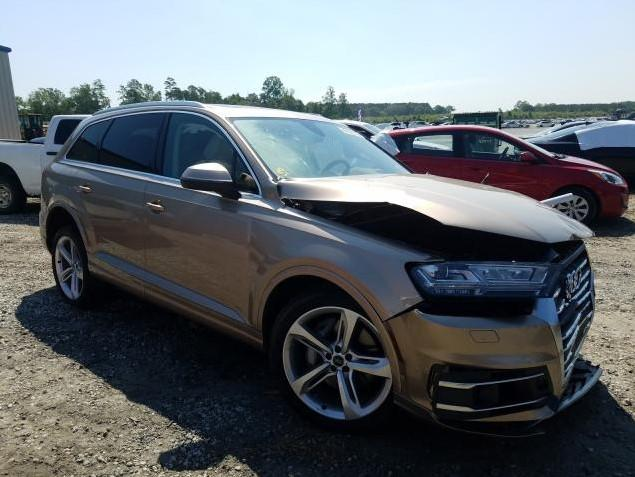Back-door: (69, 111, 166, 281), (95, 110, 168, 122)
Back-wheel: (51, 227, 97, 305)
Back-window: (100, 115, 162, 173), (66, 119, 109, 162)
Fender: (248, 195, 445, 331)
Front-bumper: (375, 242, 595, 427)
Front-door: (144, 111, 261, 325)
Front-wheel: (270, 292, 394, 432)
Front-window: (163, 111, 235, 179), (238, 158, 256, 192)
Grille: (553, 250, 594, 389)
Headlight: (410, 260, 554, 296)
Hood: (279, 173, 595, 243)
Mirror: (180, 163, 235, 200)
Quarter-panel: (39, 157, 92, 253)
Rocker-panel: (88, 254, 263, 349)
Roof: (94, 101, 335, 121)
Windshield: (226, 117, 414, 183)
